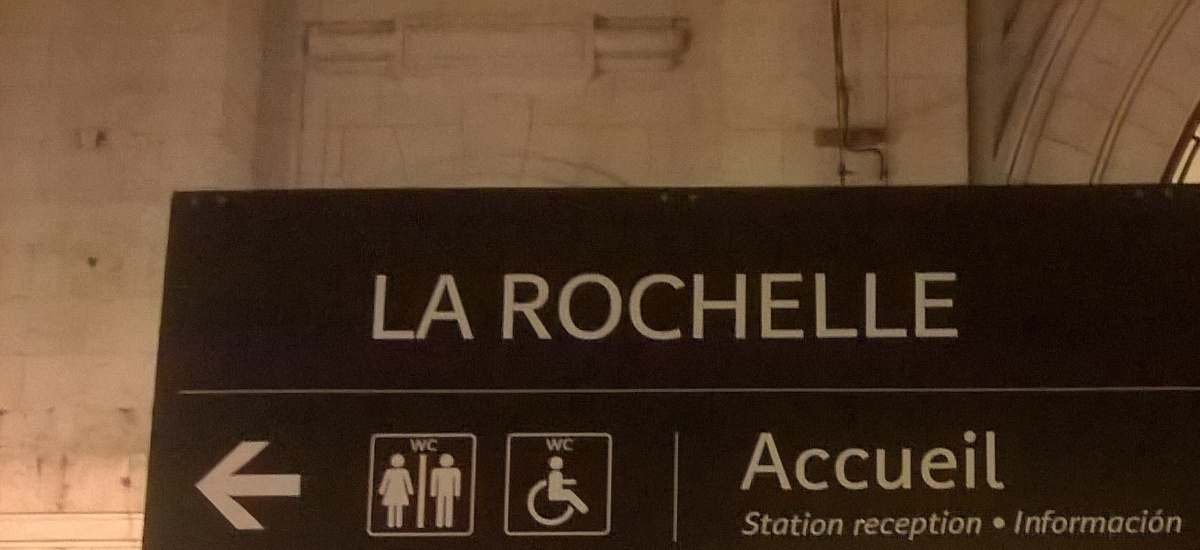text: (513, 271, 528, 340), (529, 271, 544, 340), (545, 271, 560, 340), (561, 271, 576, 340), (577, 271, 592, 340), (593, 271, 608, 340), (609, 271, 624, 340), (625, 271, 640, 340), (641, 271, 656, 340), (657, 271, 672, 340), (673, 271, 688, 340), (689, 271, 704, 340), (705, 271, 720, 340), (721, 271, 736, 340), (737, 271, 752, 340), (753, 271, 768, 340), (769, 271, 784, 340), (785, 271, 800, 340), (801, 271, 816, 340), (817, 271, 832, 340), (833, 271, 848, 340), (849, 271, 864, 340), (865, 271, 880, 340), (881, 271, 896, 340), (897, 271, 912, 340), (913, 271, 928, 340), (929, 271, 944, 340), (945, 271, 960, 340), (385, 273, 400, 341), (401, 273, 416, 341), (417, 273, 432, 341), (433, 273, 448, 341), (449, 273, 464, 341), (769, 430, 784, 492), (785, 430, 800, 492), (801, 430, 816, 492), (817, 430, 832, 492), (833, 430, 848, 492), (849, 430, 864, 492), (865, 430, 880, 492), (881, 430, 896, 492), (897, 430, 912, 492), (913, 430, 928, 492), (929, 430, 944, 492), (945, 430, 960, 492), (961, 430, 976, 492), (977, 430, 992, 492), (993, 430, 1007, 492), (500, 271, 512, 340), (465, 273, 476, 341), (758, 430, 768, 492), (376, 273, 384, 341), (865, 508, 880, 543), (881, 508, 896, 543), (897, 508, 912, 543), (913, 508, 928, 543), (929, 508, 944, 543), (945, 508, 960, 543), (961, 508, 976, 543), (1025, 508, 1040, 536), (1041, 508, 1056, 536), (1057, 508, 1072, 536), (1073, 508, 1088, 536), (1089, 508, 1104, 536), (1105, 508, 1120, 536), (1121, 508, 1136, 536), (1137, 508, 1152, 536), (1153, 508, 1168, 536), (1169, 508, 1184, 536), (753, 510, 768, 537), (769, 510, 784, 537), (785, 510, 800, 537), (801, 510, 816, 537), (817, 510, 832, 537), (855, 508, 864, 543), (833, 510, 844, 537), (977, 508, 984, 543), (417, 439, 432, 453), (1017, 508, 1024, 536), (545, 439, 560, 451), (561, 439, 576, 451), (748, 510, 752, 537), (409, 439, 416, 453), (433, 439, 438, 453)
